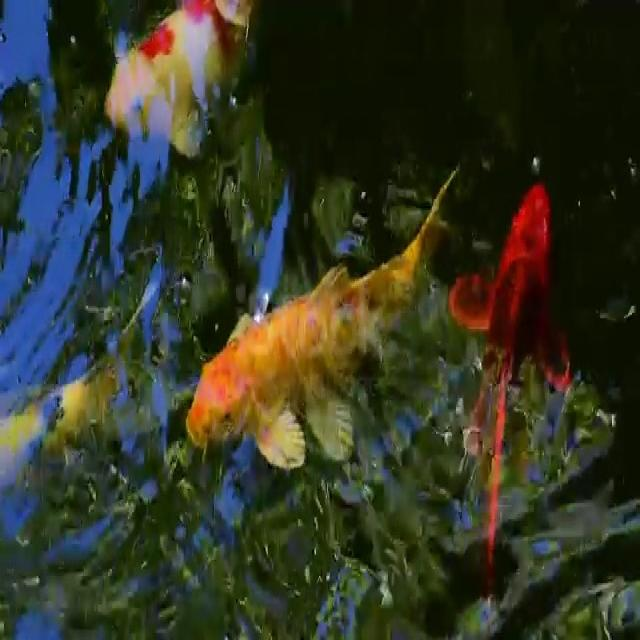fish: (182, 164, 468, 471), (449, 132, 586, 564), (106, 0, 275, 175)
